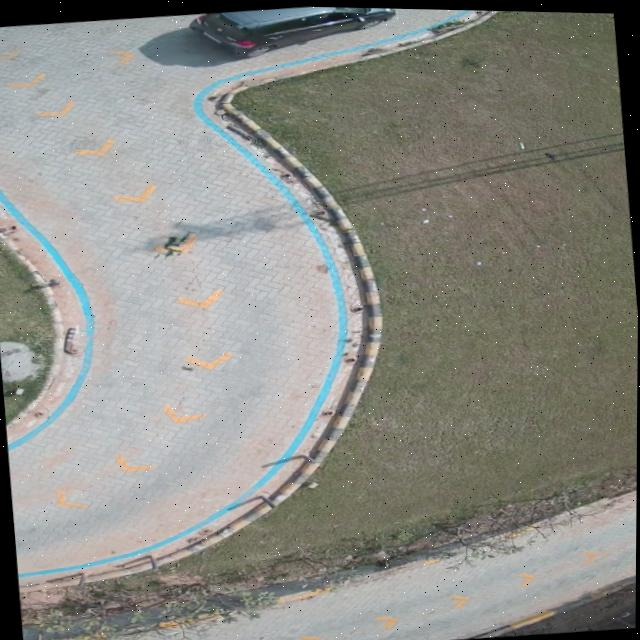car: (189, 5, 393, 57)
